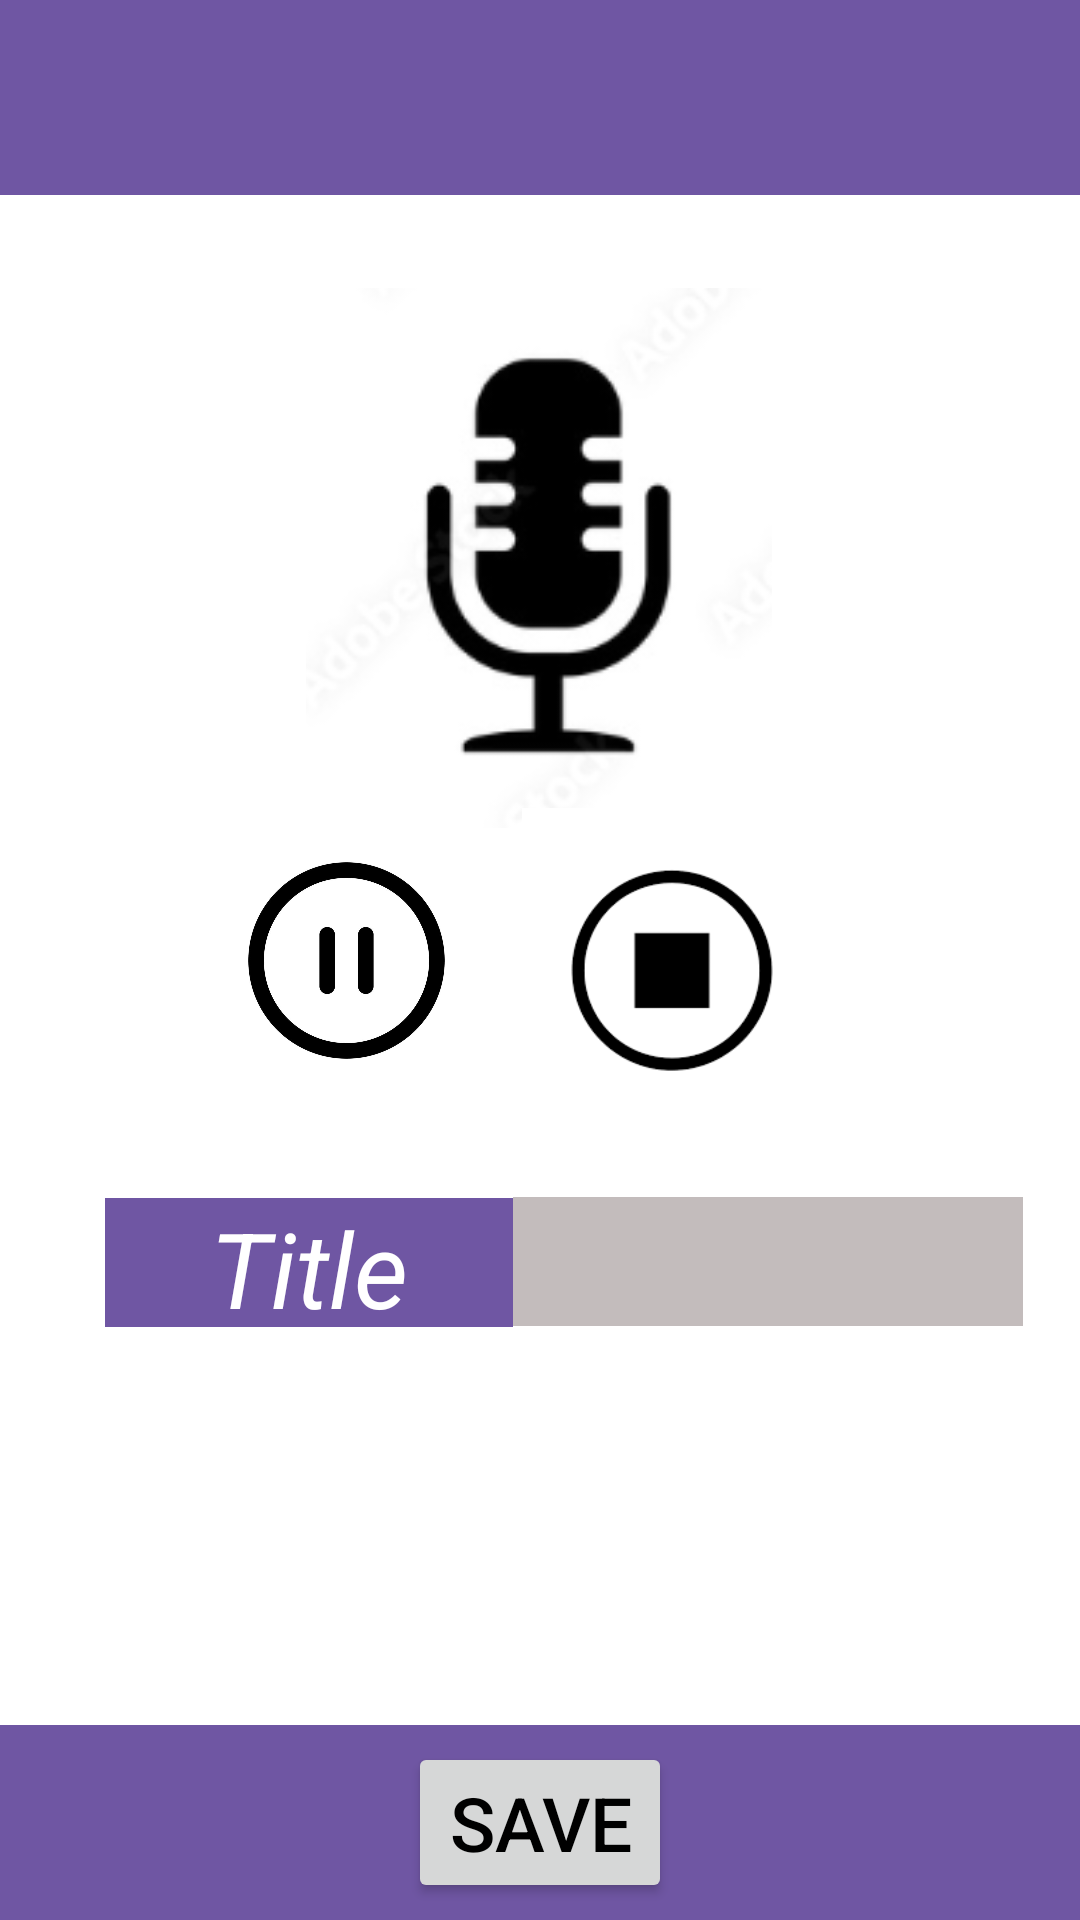

Icons on this 1080px×1920px Android screen, each with its box as bbox(x1, y1, x2, y2):
Pause Recording: bbox(248, 862, 445, 1059)
Stop Recording: bbox(571, 870, 773, 1071)
